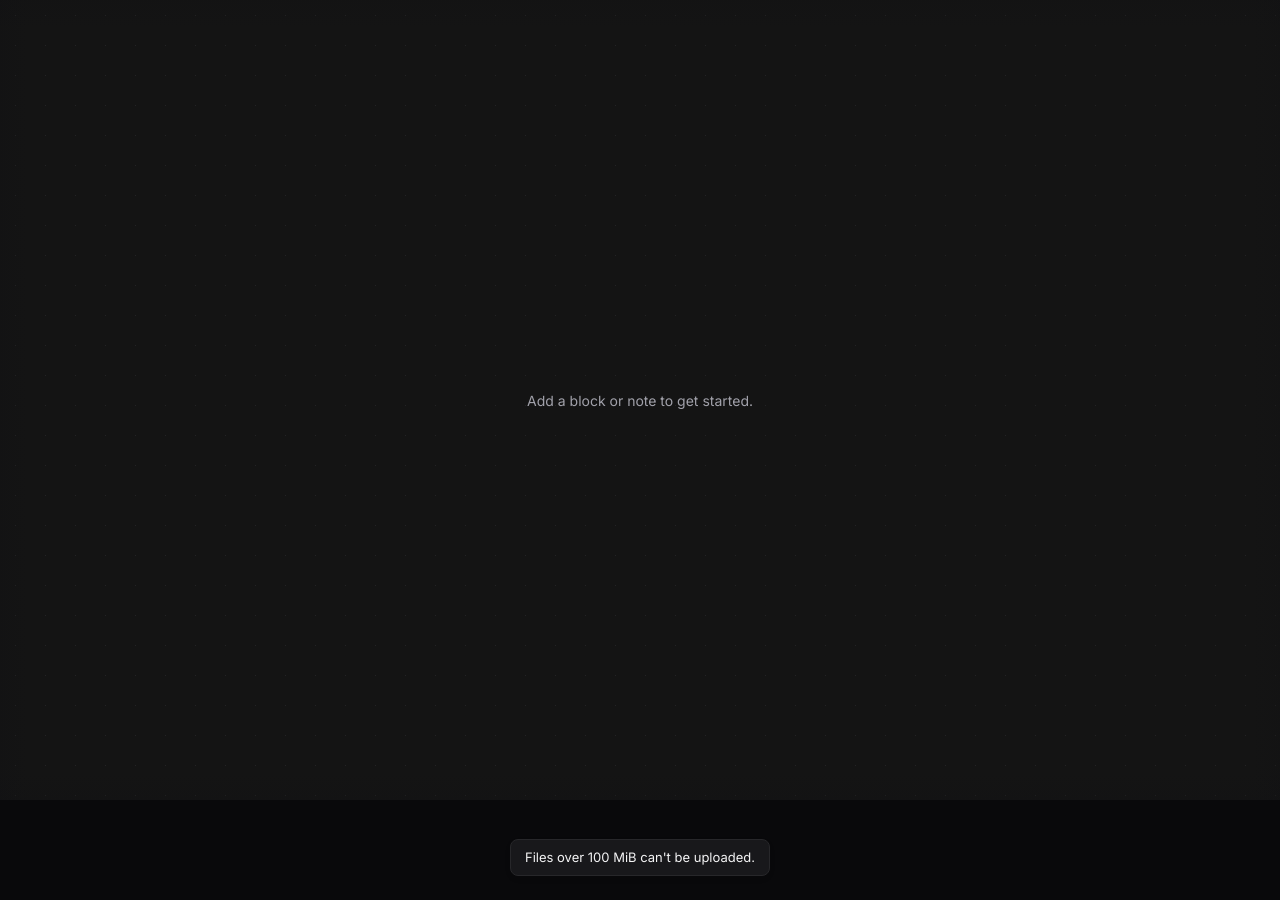
Test case: whiteboard media and web-link nodes › the web link tool asks for a URL and an optional title, then places a card
Later steps or results of the test are not shown.
Press the mouse on the element with test id "whiteboard-placement" at (640, 400), box [0,0,1279,800]
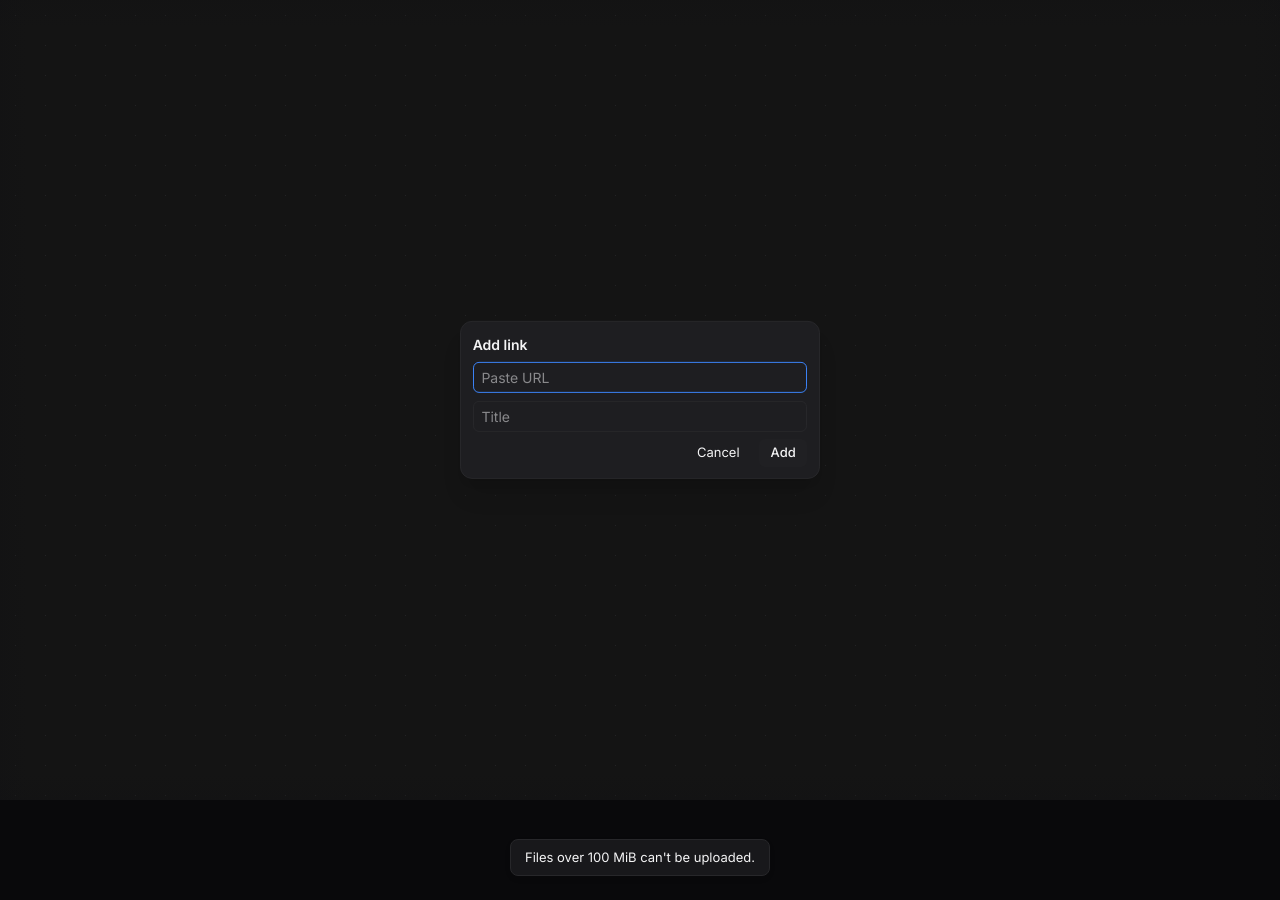
Check: the text "Add link" is shown, box [473,336,527,352]
Type "javascript:alert(1)" into the field with placeholder "Paste URL" at (640, 378), box [473,362,807,393]
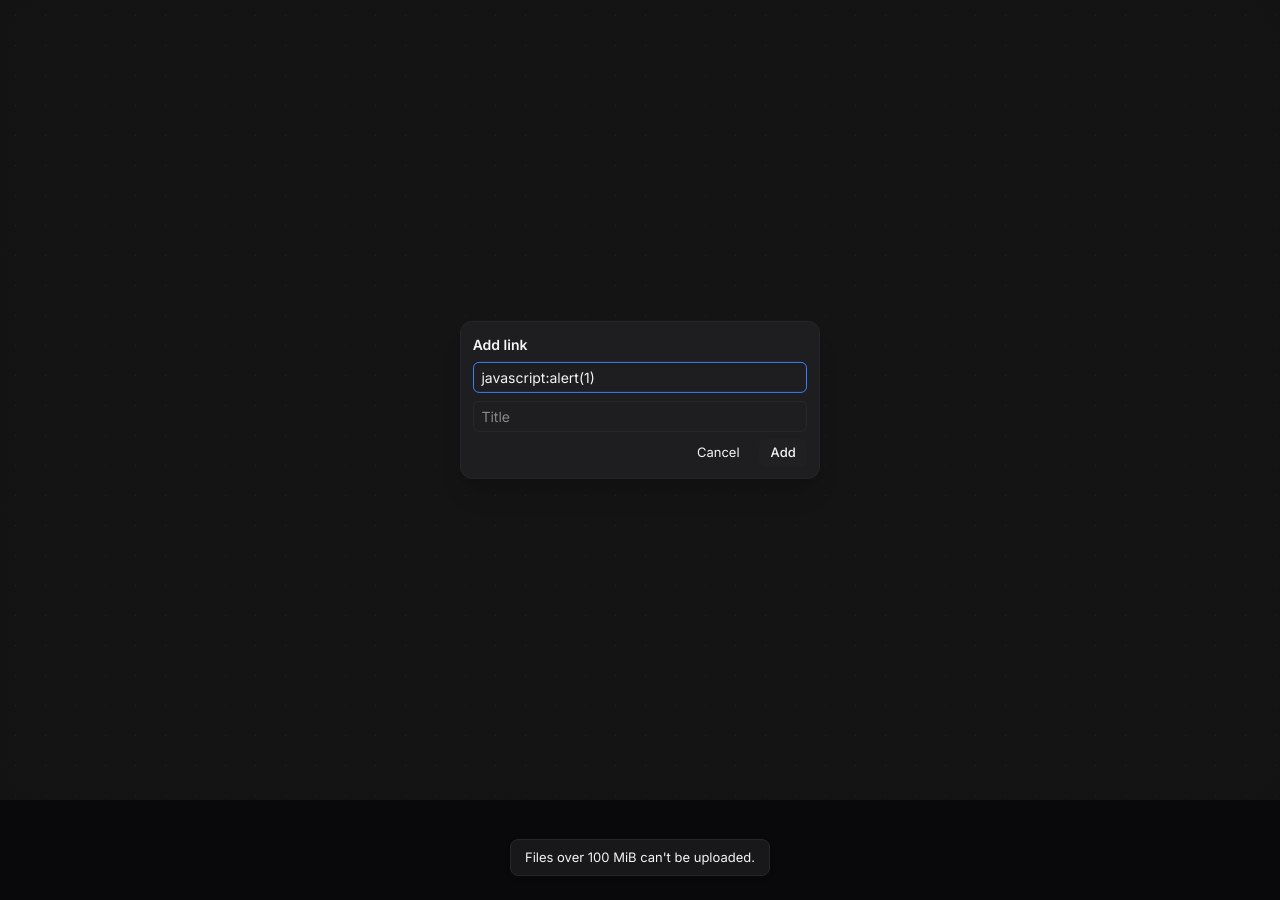
Click the button "Add" at (783, 453), box [759,439,807,467]
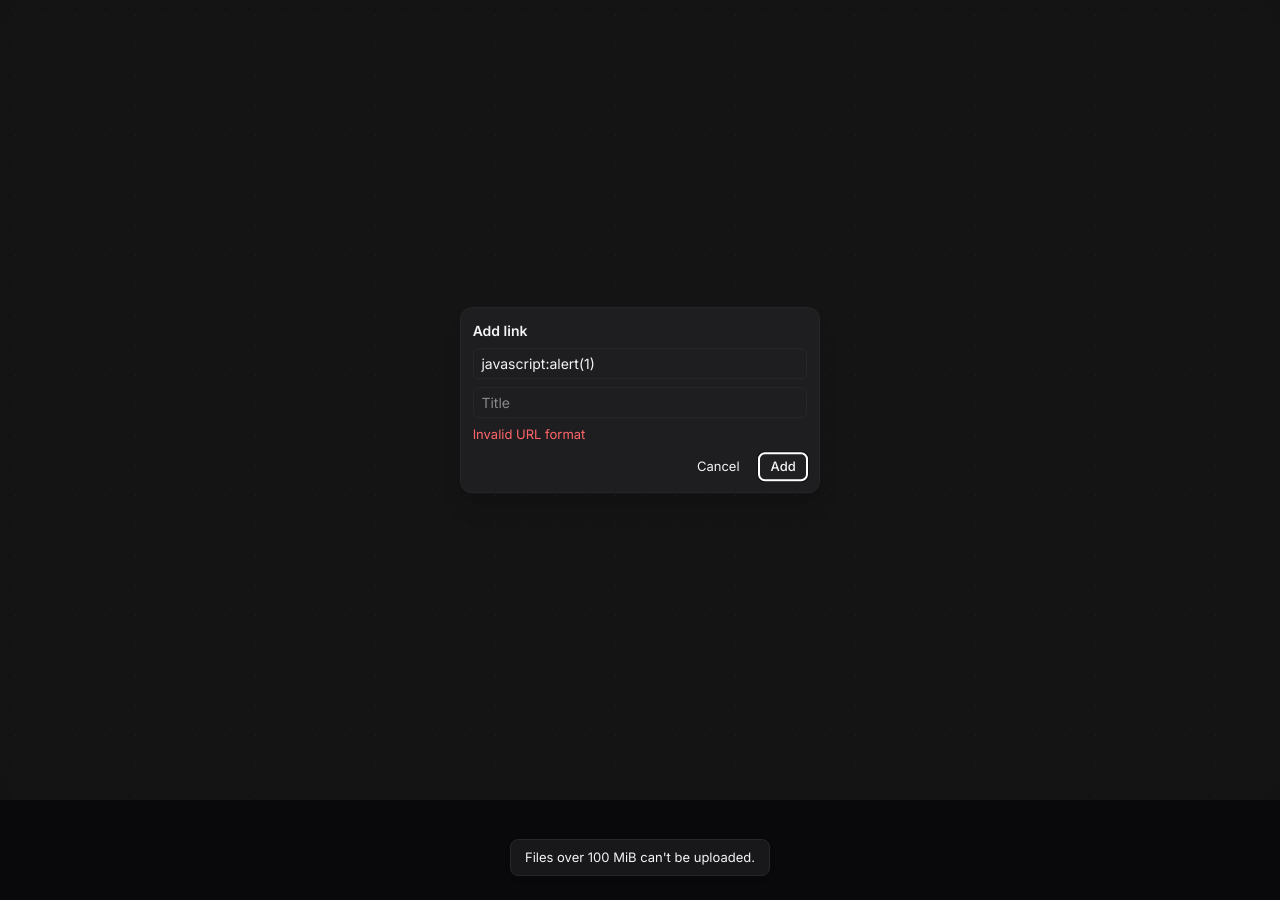
Check: the message reads "Invalid URL format", box [473,427,585,443]
